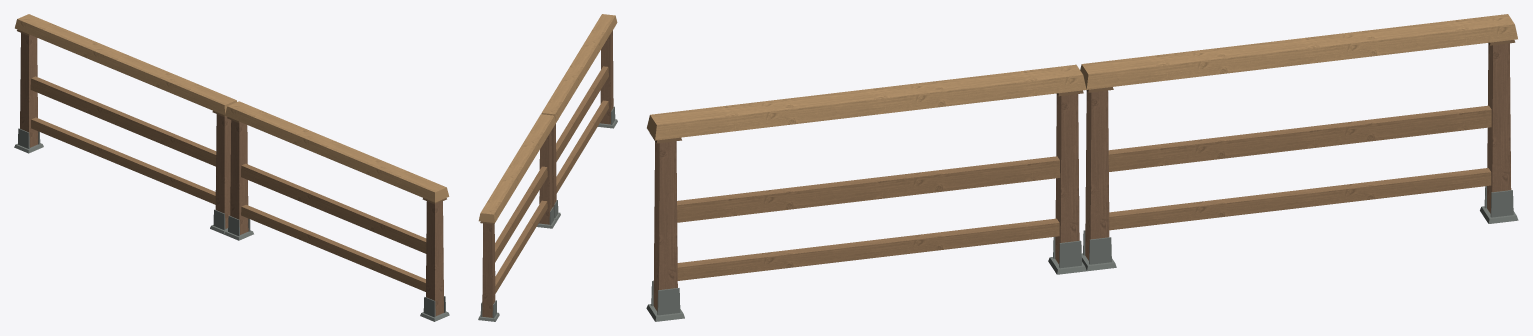
File: P03-portable.glb
3 views of the same model, side by side, from view 1: azimuth 30°, elevation 25°; view 2: azimuth 150°, elevation 25°; view 3: azimuth 270°, elevation 25° (orthographic). The views are drawn at different scales.
Parts seen in each view (by area): view 1: P03.rail-1-l-2.handrail.continuous.10, P03.rail-1-l-1.handrail.continuous.10, P03.rail-1-l-2.rail.middle.11, P03.rail-1-l-1.rail.middle.11, P03.rail-1-l-1.rail.lower.12, P03.rail-1-l-2.rail.lower.12, P03.rail-1-l-2.post.vertical-grain.5, P03.rail-1-l-1.post.vertical-grain.0, P03.rail-1-l-2.post.vertical-grain.0, P03.rail-1-l-1.post.vertical-grain.5; view 2: P03.rail-1-l-1.handrail.continuous.10, P03.rail-1-l-2.handrail.continuous.10, P03.rail-1-l-1.post.vertical-grain.0, P03.rail-1-l-2.rail.middle.11, P03.rail-1-l-1.rail.middle.11, P03.rail-1-l-2.rail.lower.12, P03.rail-1-l-1.rail.lower.12, P03.rail-1-l-2.post.vertical-grain.5, P03.rail-1-l-1.post.vertical-grain.5, P03.rail-1-l-2.post.vertical-grain.0; view 3: P03.rail-1-l-2.handrail.continuous.10, P03.rail-1-l-1.handrail.continuous.10, P03.rail-1-l-1.rail.middle.11, P03.rail-1-l-2.rail.middle.11, P03.rail-1-l-2.rail.lower.12, P03.rail-1-l-1.rail.lower.12, P03.rail-1-l-1.post.vertical-grain.5, P03.rail-1-l-2.post.vertical-grain.5, P03.rail-1-l-2.post.vertical-grain.0, P03.rail-1-l-1.post.vertical-grain.0.
Part boxes in pixels (x1,y1,x2,y2): P03.rail-1-l-2.handrail.continuous.10: (225,101,449,202); P03.rail-1-l-1.handrail.continuous.10: (15,14,236,115); P03.rail-1-l-2.rail.middle.11: (241,163,426,253); P03.rail-1-l-1.rail.middle.11: (30,76,216,166); P03.rail-1-l-1.rail.lower.12: (31,117,215,204); P03.rail-1-l-2.rail.lower.12: (241,204,425,291); P03.rail-1-l-2.post.vertical-grain.5: (426,201,444,315); P03.rail-1-l-1.post.vertical-grain.0: (20,33,38,147); P03.rail-1-l-2.post.vertical-grain.0: (230,120,248,234); P03.rail-1-l-1.post.vertical-grain.5: (215,114,231,228); P03.rail-1-l-1.handrail.continuous.10: (478,114,555,222); P03.rail-1-l-2.handrail.continuous.10: (541,14,617,122); P03.rail-1-l-1.post.vertical-grain.0: (482,223,495,317); P03.rail-1-l-2.rail.middle.11: (556,66,608,161); P03.rail-1-l-1.rail.middle.11: (495,166,547,262); P03.rail-1-l-2.rail.lower.12: (556,100,608,193); P03.rail-1-l-1.rail.lower.12: (495,200,547,293); P03.rail-1-l-2.post.vertical-grain.5: (600,30,613,124); P03.rail-1-l-1.post.vertical-grain.5: (539,131,552,224); P03.rail-1-l-2.post.vertical-grain.0: (551,124,556,209); P03.rail-1-l-2.handrail.continuous.10: (647,64,1086,140); P03.rail-1-l-1.handrail.continuous.10: (1080,14,1517,89); P03.rail-1-l-1.rail.middle.11: (1108,105,1491,171); P03.rail-1-l-2.rail.middle.11: (677,156,1060,222); P03.rail-1-l-2.rail.lower.12: (677,218,1059,280); P03.rail-1-l-1.rail.lower.12: (1109,168,1491,230); P03.rail-1-l-1.post.vertical-grain.5: (1085,90,1109,260); P03.rail-1-l-2.post.vertical-grain.5: (653,141,677,311); P03.rail-1-l-2.post.vertical-grain.0: (1055,94,1079,263); P03.rail-1-l-1.post.vertical-grain.0: (1487,43,1511,213).
Bounding box in the file's own units: 1.23 × 0.97 × 3.93.
Materials: 3 (1 with a texture image).
